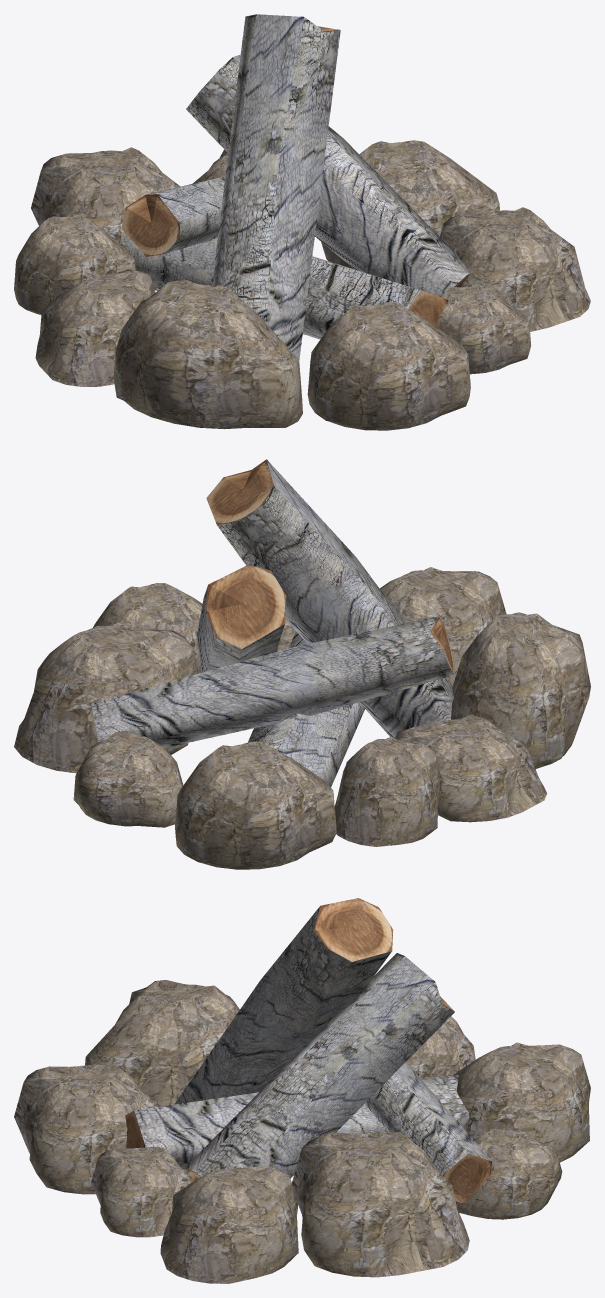
3 renders of one model, top to bottom at view 1: azimuth 30°, elevation 25°; view 2: azimuth 150°, elevation 25°; view 3: azimuth 270°, elevation 25°, orthographic. The views are drawn at different scales.
Parts seen in each view (by area): view 1: Geode; view 2: Geode; view 3: Geode.
Part boxes in pixels (x1=…): Geode: x1=14, y1=14, x2=590, y2=430; Geode: x1=14, y1=459, x2=590, y2=869; Geode: x1=14, y1=898, x2=590, y2=1283.
Bounding box in the file's own units: 117 × 71.17 × 125.
Materials: 3 (3 with a texture image).
